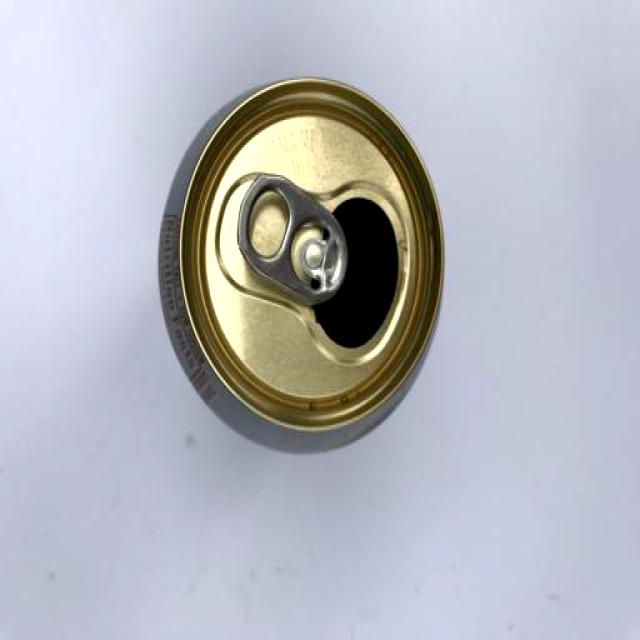Metal: (154, 72, 445, 455)
